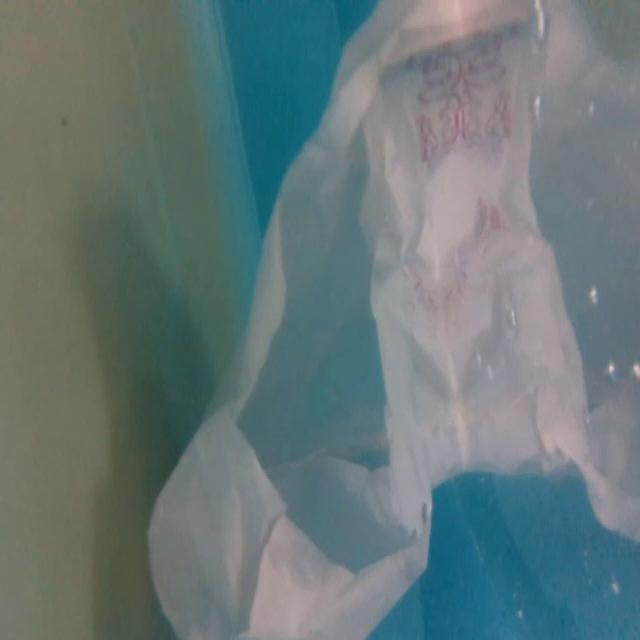plastic bags: (144, 1, 640, 636)
